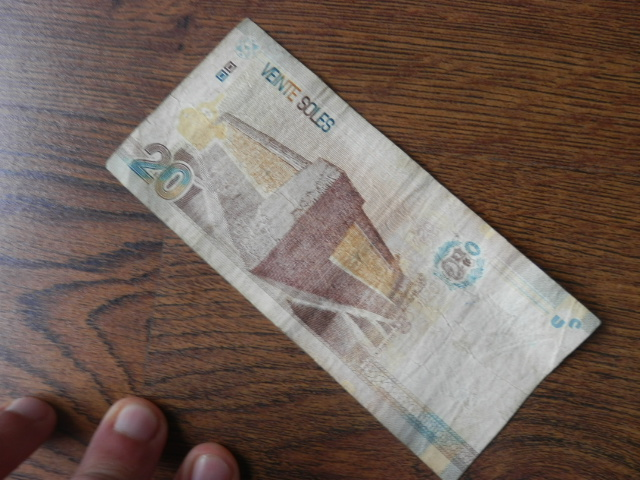B20: (103, 16, 615, 463)
